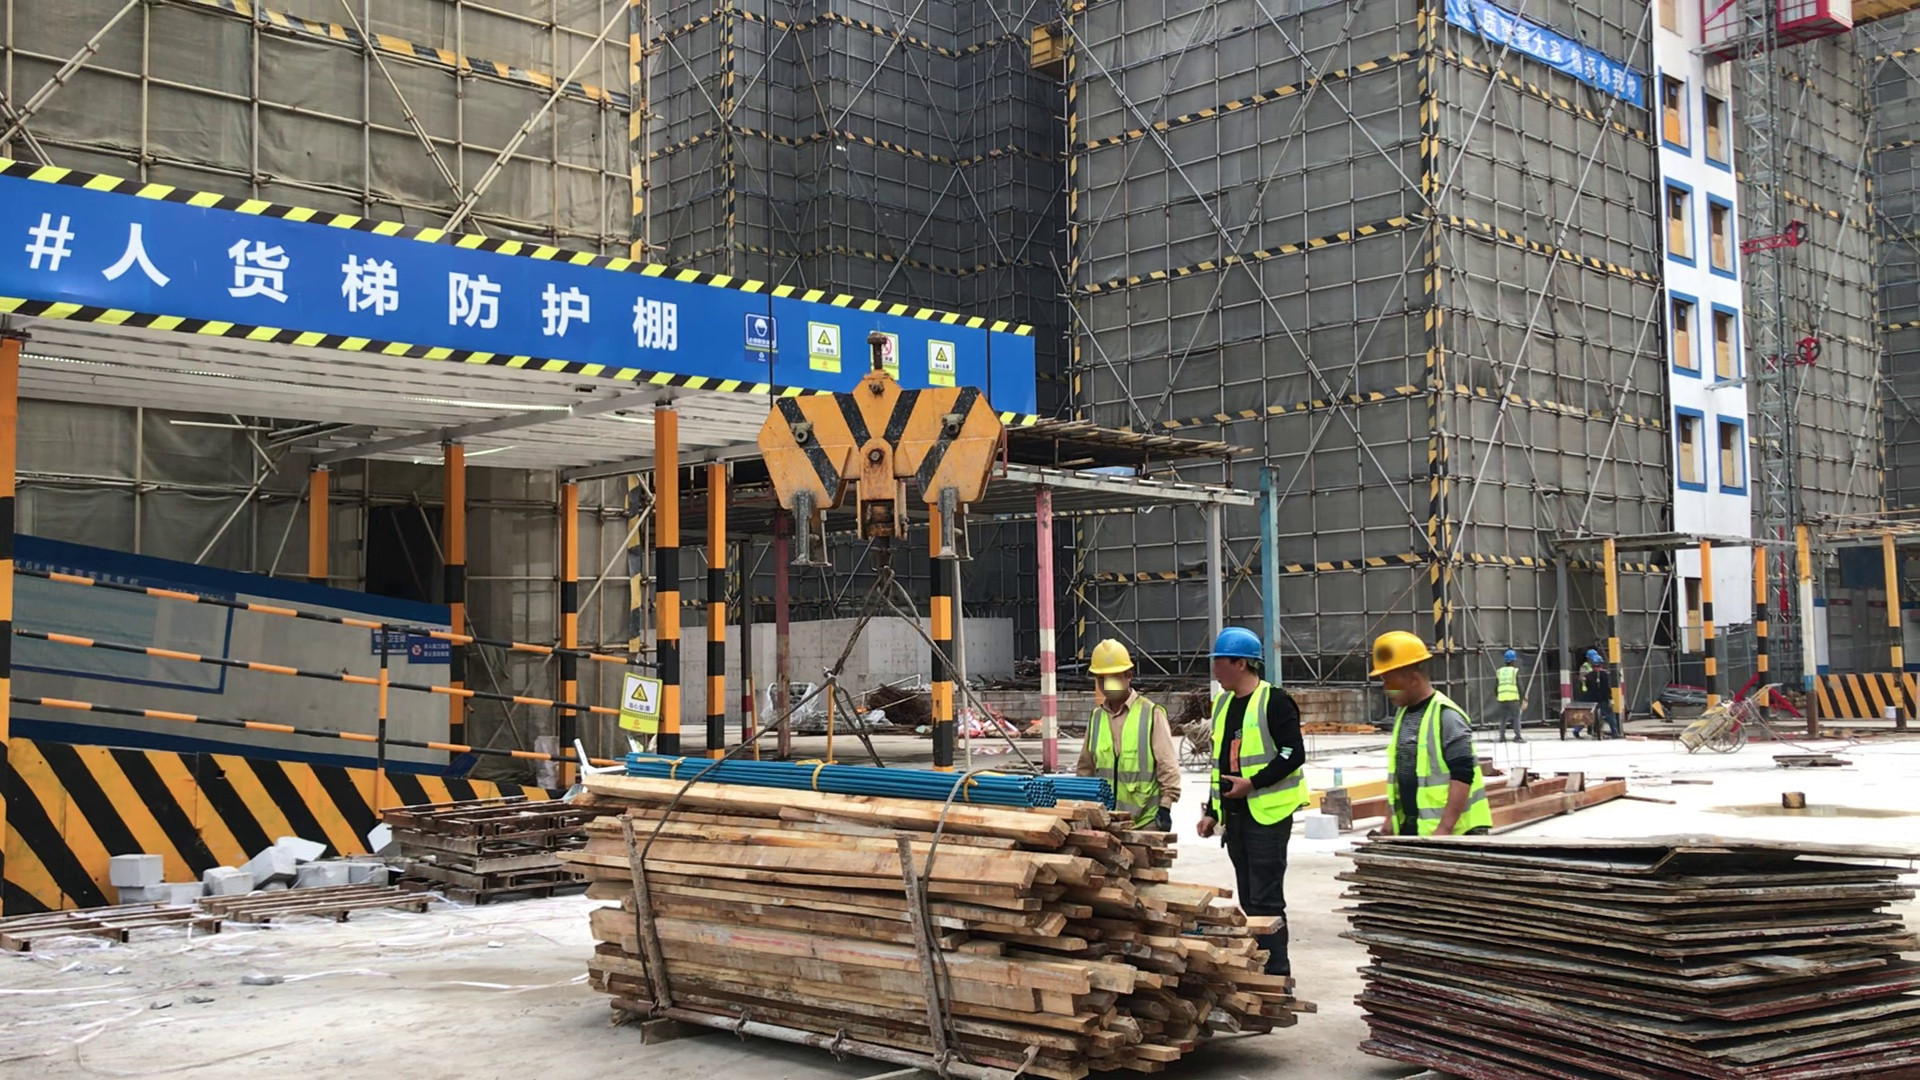board: (1334, 832, 1920, 1078)
handcart: (1671, 679, 1771, 757)
helmet: (1368, 631, 1432, 670), (1208, 626, 1262, 661), (1089, 639, 1133, 673), (1503, 650, 1516, 661), (1591, 654, 1603, 663), (1585, 651, 1597, 658)
hook: (754, 378, 1005, 561)
person: (1200, 626, 1317, 992), (1365, 630, 1501, 845), (1072, 632, 1179, 839), (1491, 649, 1532, 744), (1589, 654, 1618, 737), (1576, 648, 1594, 696)
slogan: (1444, 1, 1650, 105)
vest: (1393, 701, 1489, 838), (1209, 682, 1301, 820), (1091, 699, 1173, 822), (1495, 666, 1520, 703)
wood: (567, 757, 1316, 1080)
